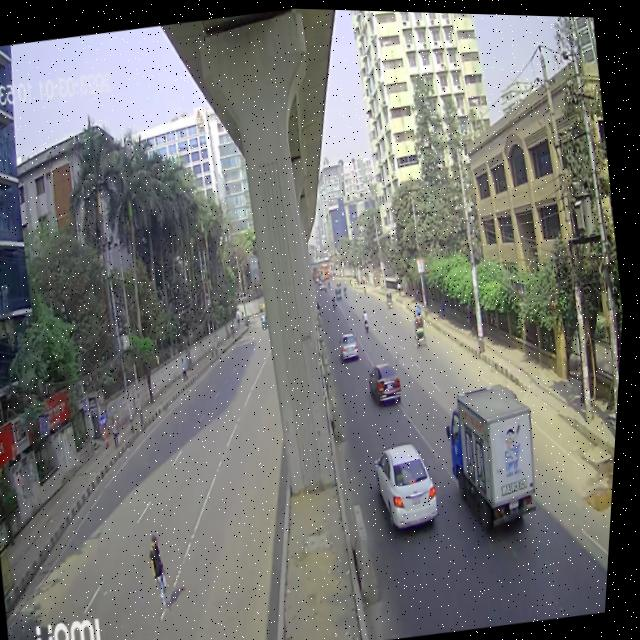rikshaw: (415, 310, 433, 347)
